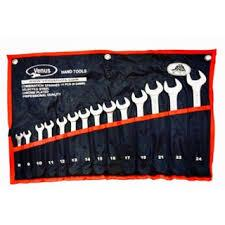wrench: (184, 68, 207, 162), (162, 77, 182, 160), (143, 79, 162, 161), (129, 88, 148, 159), (115, 95, 130, 159), (101, 99, 116, 160), (88, 101, 102, 161), (76, 106, 90, 162), (66, 109, 78, 163), (54, 115, 67, 164), (33, 122, 46, 165), (42, 118, 54, 164), (21, 129, 32, 166), (14, 130, 21, 167)
